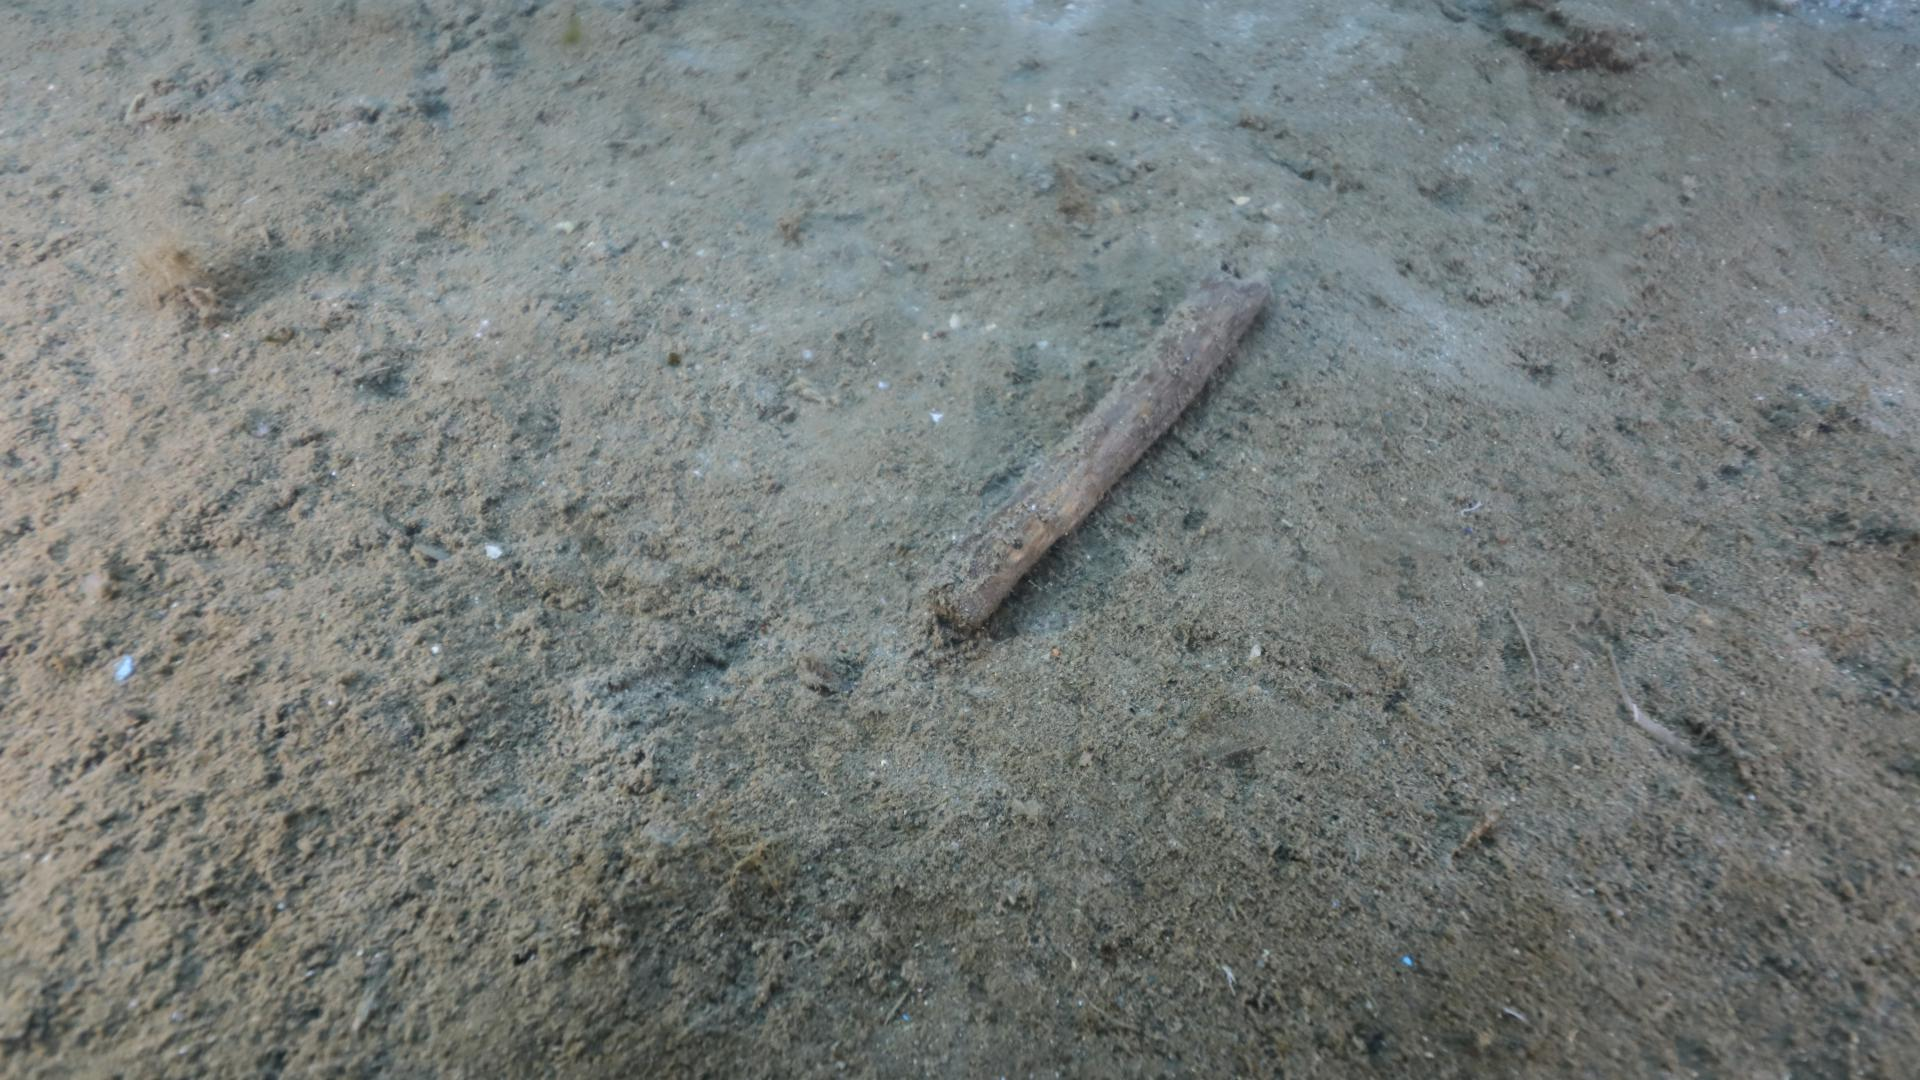wood: (916, 255, 1278, 640)
